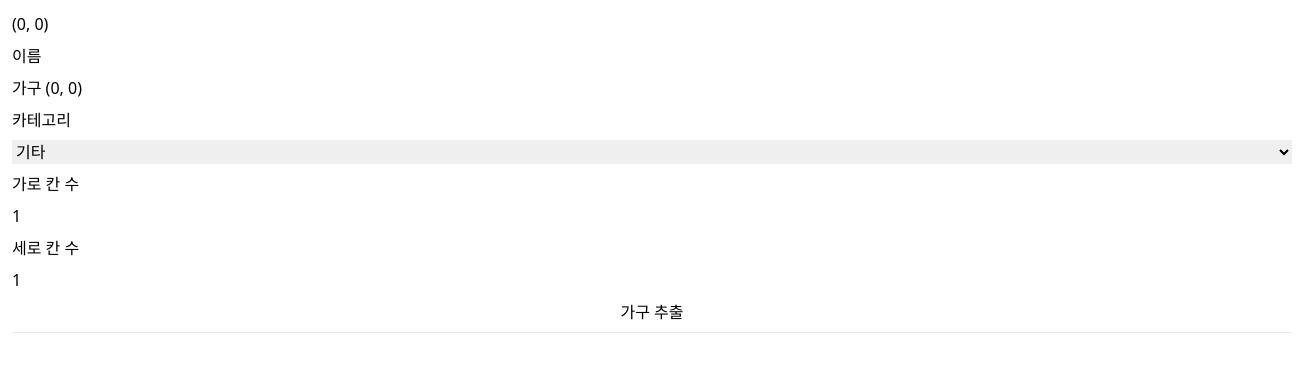
Test: FurnitureExtractionPanel › disables extraction and shows errors when the name is cleared
The image size is (1304, 382).
Clear the field labelled "이름". click: (652, 88)
box: top-left (12, 76), bottom-right (1292, 100)
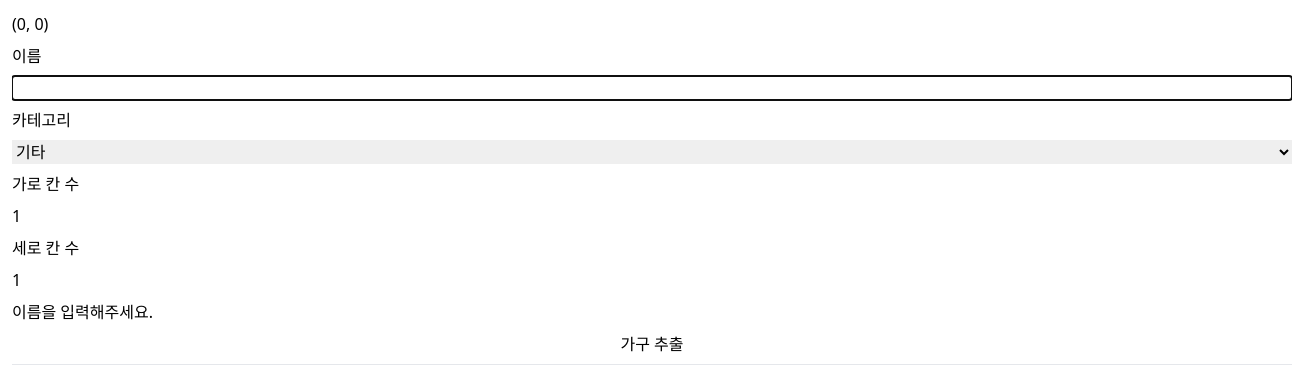
Check: the button "가구 추출" is disabled, box top-left (12, 332), bottom-right (1292, 356)
Check: the message reads "이름을 입력해주세요.", box top-left (12, 301), bottom-right (153, 323)
